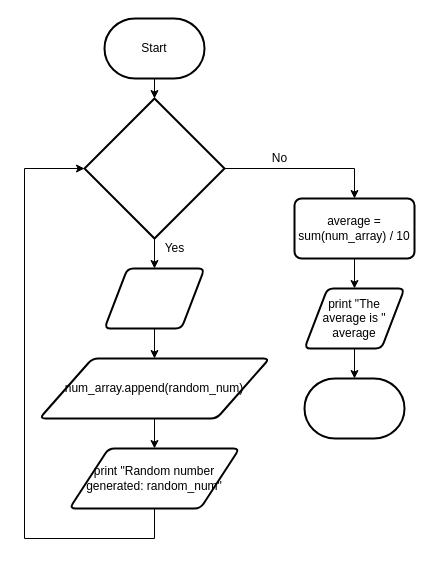
Some shapes in this 433 by 564 pixel diagram are drawn without their labels. Each missing label, with the box of its shape:
for int counter = 0 counter < 10 counter++: (83, 97, 225, 239)
Generate random_num: (103, 267, 205, 329)
Stop: (303, 377, 405, 439)
